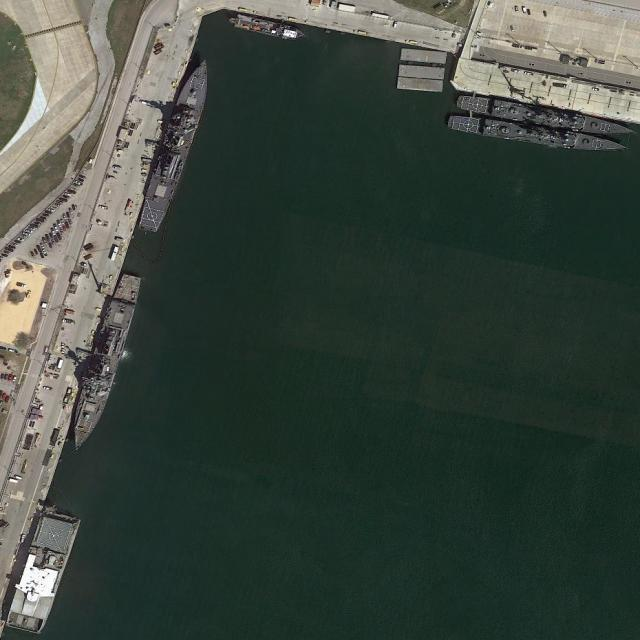Cargo: (235, 14, 308, 43)
Destroyer: (66, 272, 143, 454), (138, 55, 216, 234)
Frigate: (457, 94, 637, 140), (442, 114, 629, 156)
